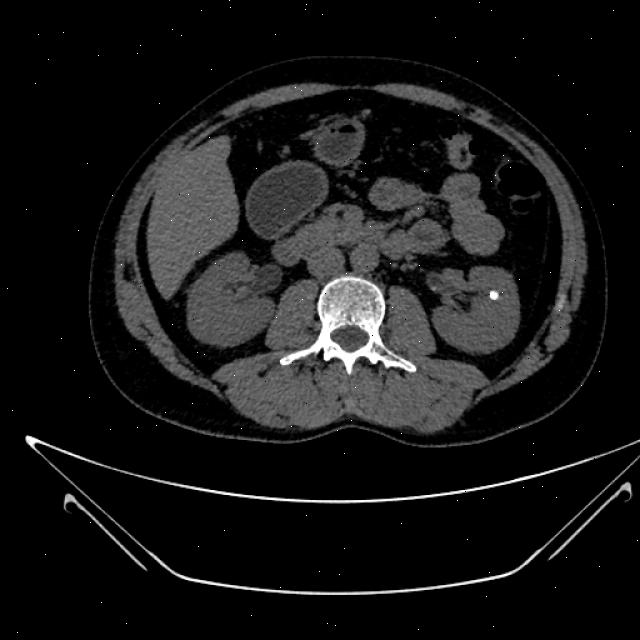kidneystone: (489, 290, 499, 300)
